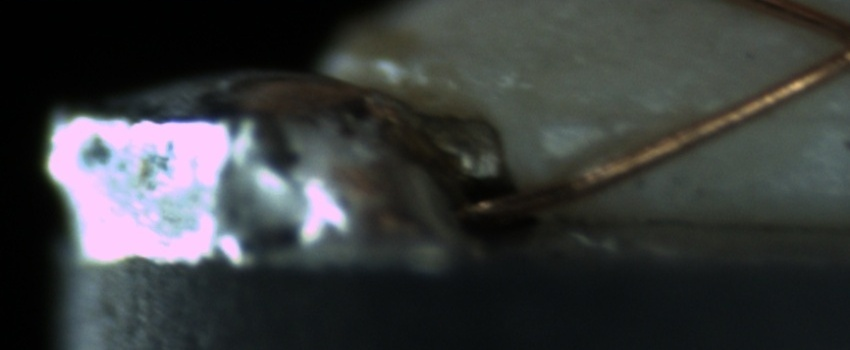CL: (808, 8, 850, 81)
DL: (541, 86, 850, 148)
